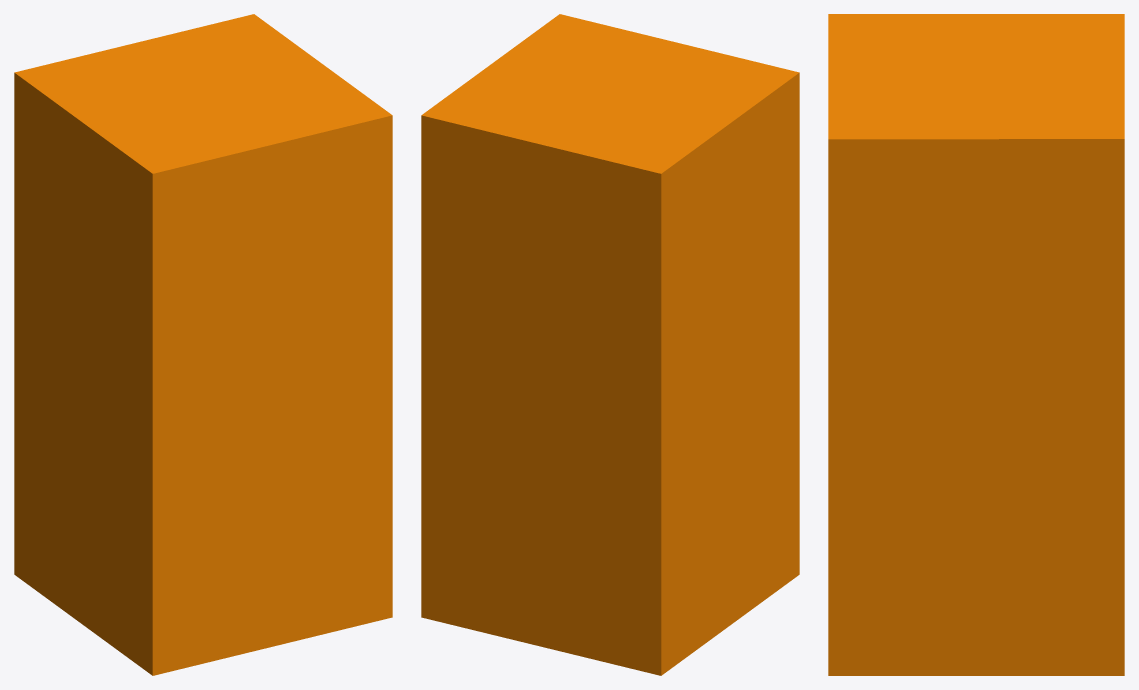
Rendered from YellowNormalEdge.fbx.
3 views of the same model, side by side, from view 1: azimuth 30°, elevation 25°; view 2: azimuth 150°, elevation 25°; view 3: azimuth 270°, elevation 25° (orthographic). The views are drawn at different scales.
Parts seen in each view (by area): view 1: LED option2.026; view 2: LED option2.026; view 3: LED option2.026.
Boxes of the visible parts, x1,y1,x2,y2 form: LED option2.026: (14, 14, 392, 675); LED option2.026: (421, 14, 799, 675); LED option2.026: (828, 14, 1124, 675).
Size of the model in its own units: 100 by 200 by 100.
